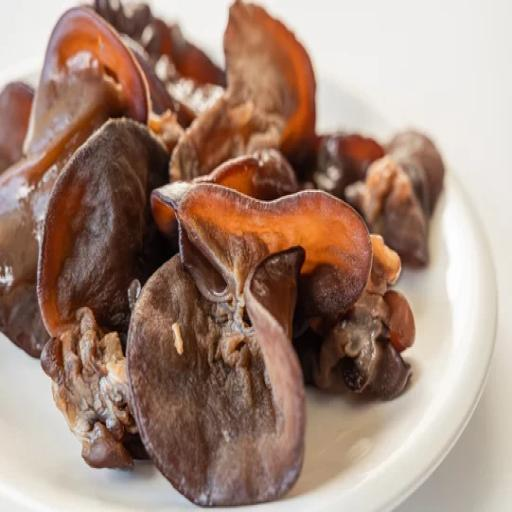mushroom: (123, 169, 370, 512), (157, 0, 339, 198), (24, 115, 182, 338), (16, 9, 165, 168)
